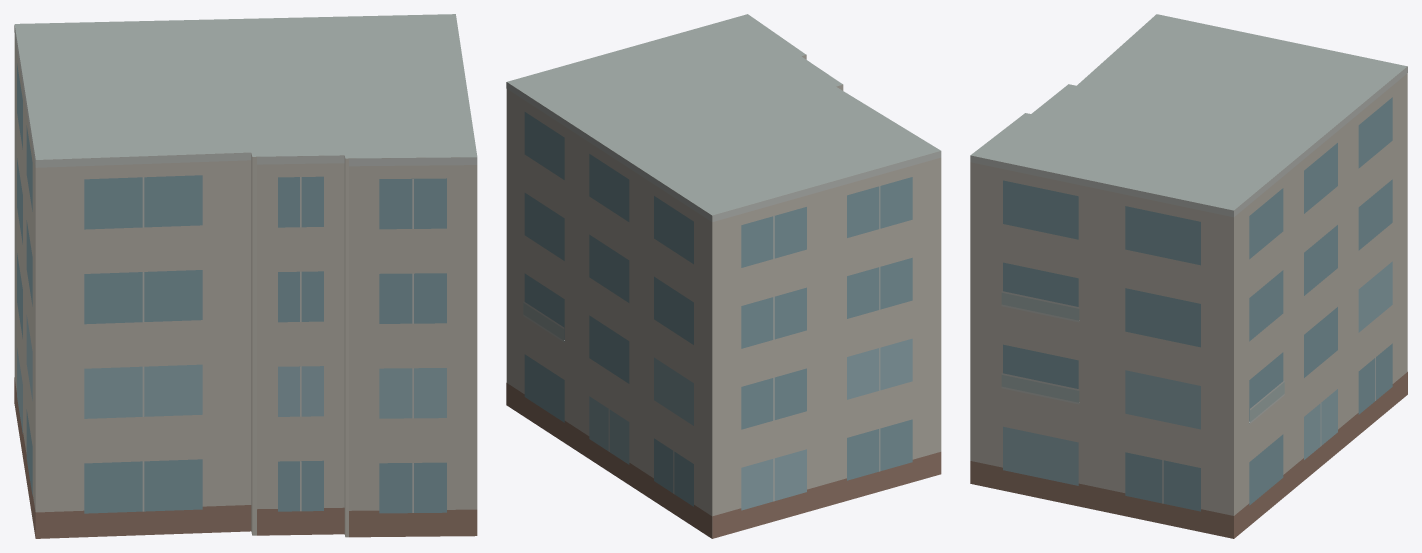
The model's file is survey-upis-32881273.glb.
3 views of the same model, side by side, from view 1: azimuth 30°, elevation 25°; view 2: azimuth 150°, elevation 25°; view 3: azimuth 270°, elevation 25° (orthographic). The views are drawn at different scales.
Parts seen in each view (by area): view 1: survey-upis-32881273.tmp; view 2: survey-upis-32881273.tmp; view 3: survey-upis-32881273.tmp.
Boxes of the visible parts, x1=… form: survey-upis-32881273.tmp: x1=14, y1=14, x2=477, y2=538; survey-upis-32881273.tmp: x1=506, y1=14, x2=941, y2=538; survey-upis-32881273.tmp: x1=970, y1=14, x2=1407, y2=538.
Size of the model in its own units: 15.16 by 11.8 by 14.26.
